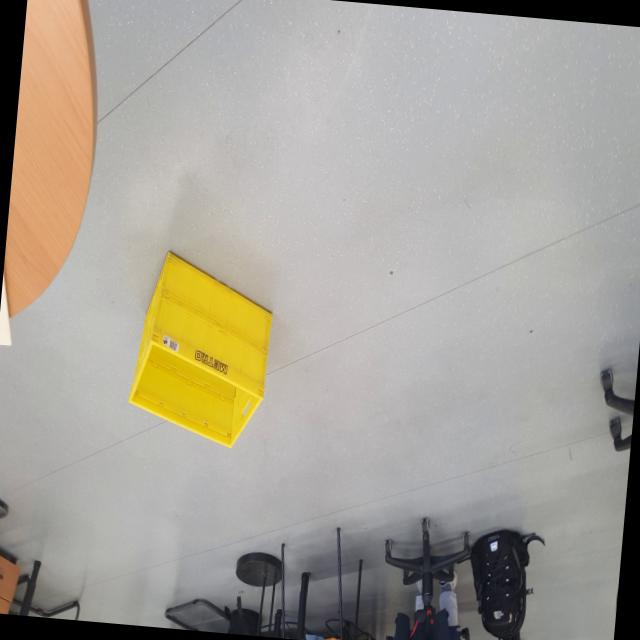box: (121, 237, 288, 456)
